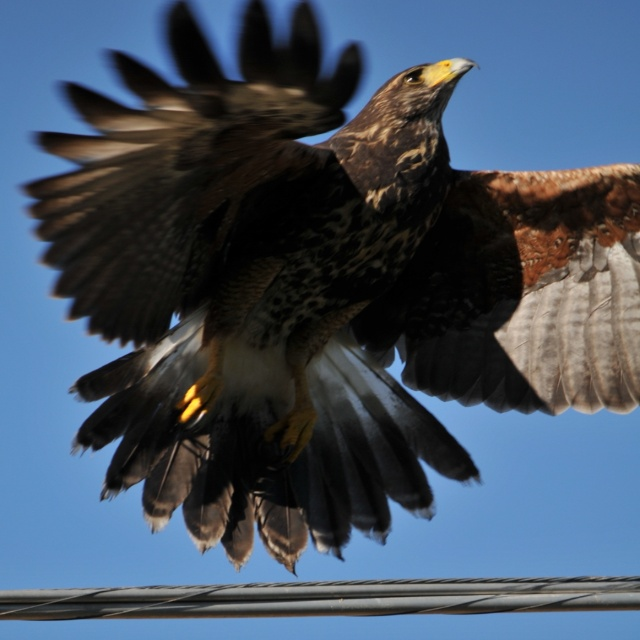Eagle: (18, 0, 639, 575)
